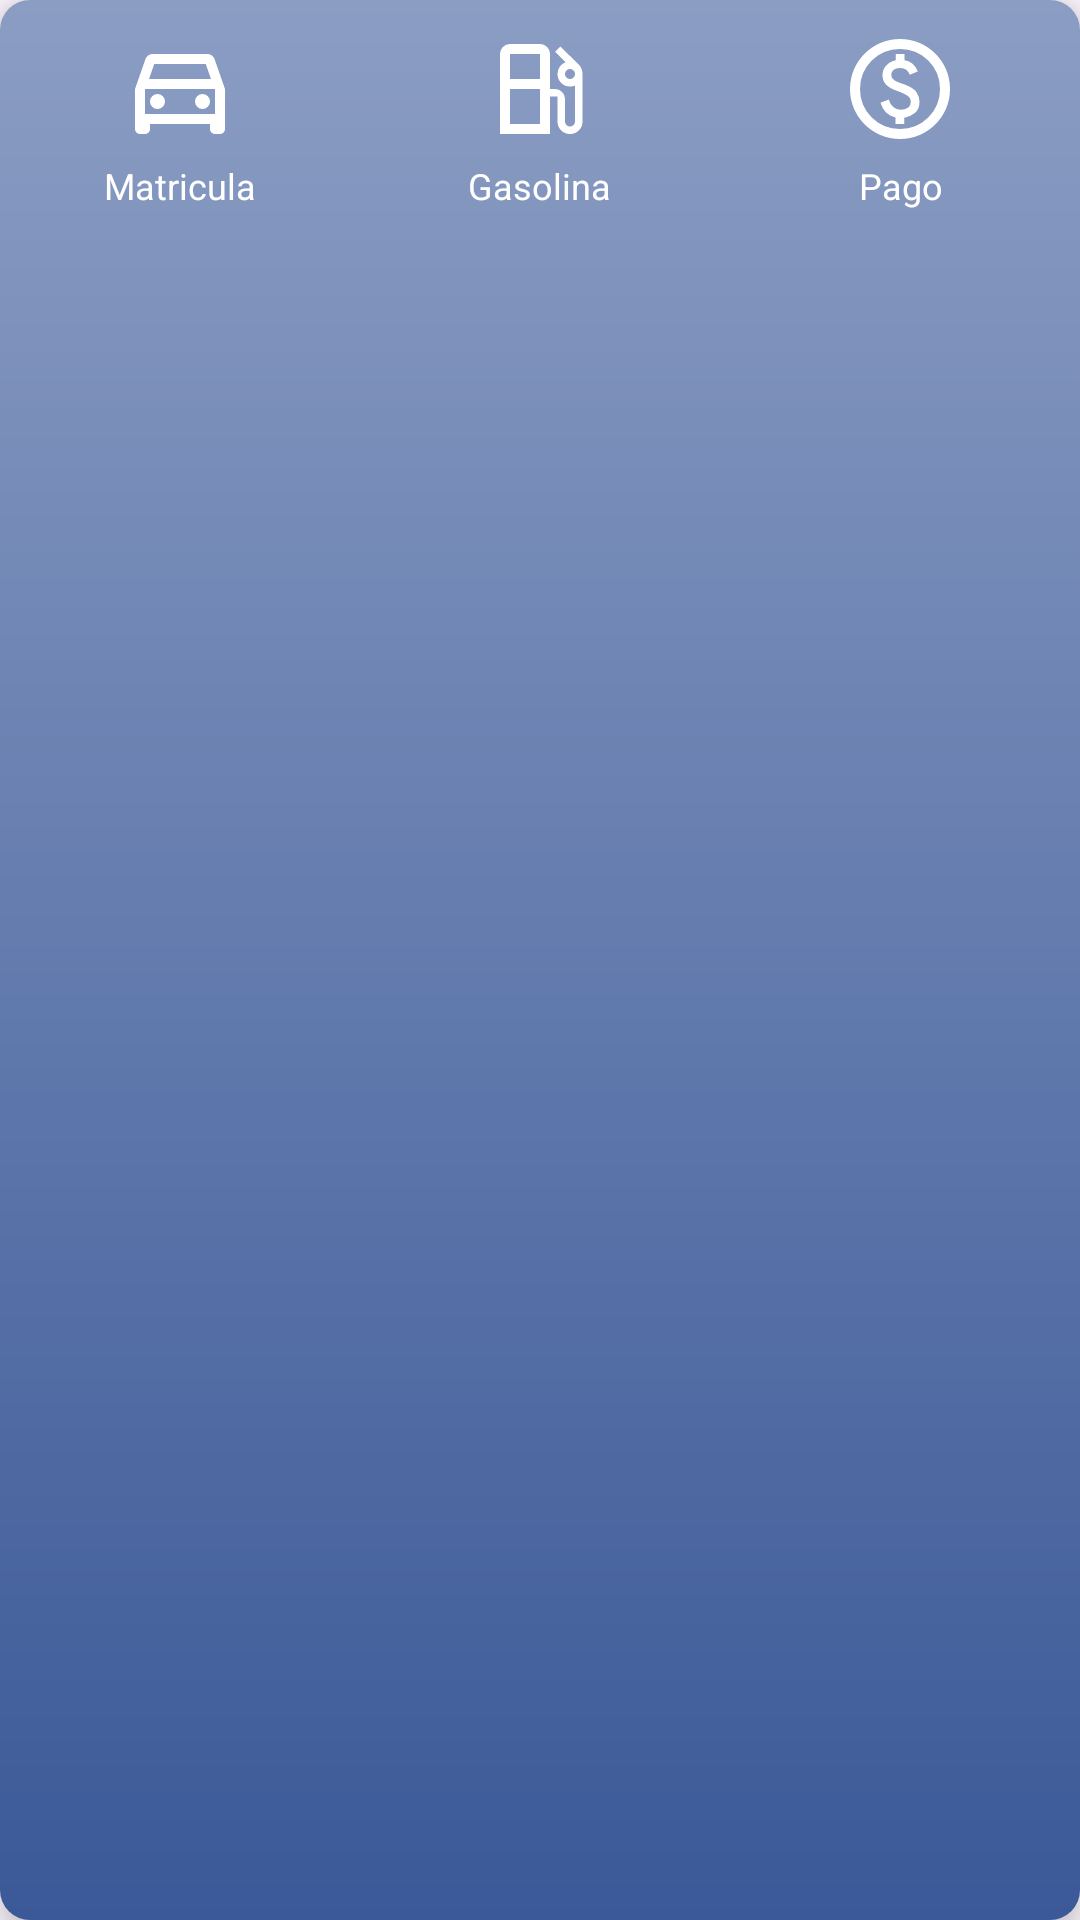

Locate icon controls on the screen. Image size 1080*1920, boxes as (x1, y1, x2, y2).
directions car: (135, 54, 225, 134)
local gas station: (500, 44, 583, 134)
